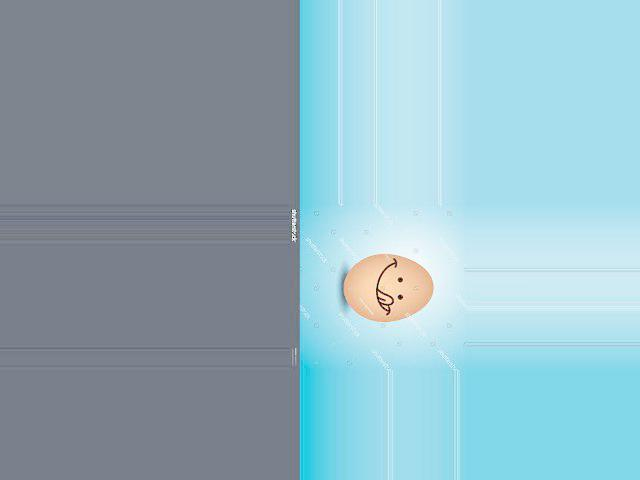egg: (343, 254, 433, 322)
